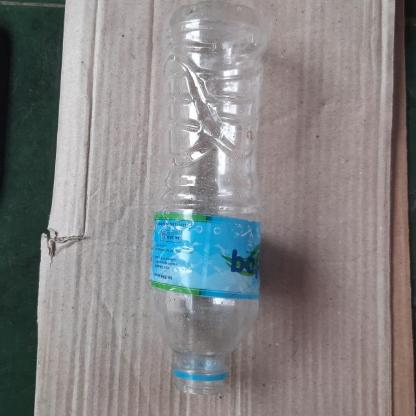Plastic Bottle: (138, 2, 288, 416)
